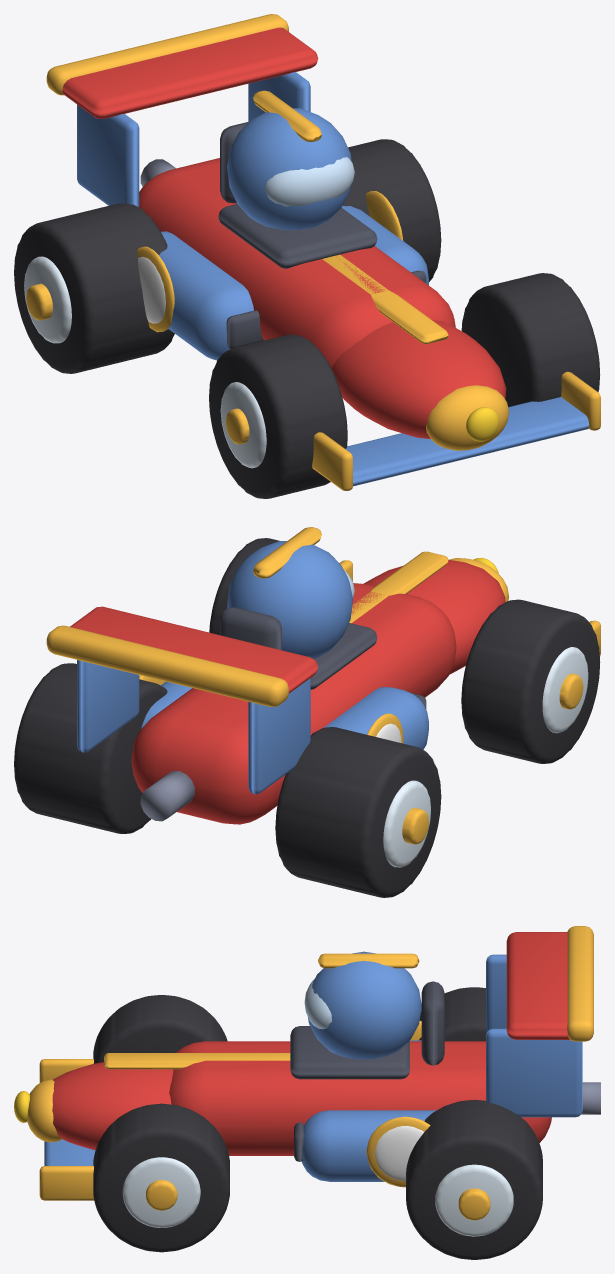
Rendered from toy-hopper.glb.
3 views of the same model, one above another, from view 1: azimuth 30°, elevation 25°; view 2: azimuth 150°, elevation 25°; view 3: azimuth 270°, elevation 25° (orthographic). The views are drawn at different scales.
Parts seen in each view (by area): view 1: body, wheel-back-right, wheel-front-right, wheel-front-left, wheel-back-left; view 2: body, wheel-back-right, wheel-front-right, wheel-back-left, wheel-front-left; view 3: body, wheel-back-left, wheel-front-left, wheel-front-right, wheel-back-right.
Boxes of the visible parts, bbox=[...] form: body: bbox=[46, 14, 600, 490]; wheel-back-right: bbox=[14, 203, 174, 373]; wheel-front-right: bbox=[209, 334, 347, 498]; wheel-front-left: bbox=[461, 273, 600, 406]; wheel-back-left: bbox=[342, 139, 441, 281]; body: bbox=[46, 527, 600, 824]; wheel-back-right: bbox=[275, 727, 441, 897]; wheel-front-right: bbox=[461, 599, 600, 763]; wheel-back-left: bbox=[14, 663, 167, 833]; wheel-front-left: bbox=[209, 538, 334, 634]; body: bbox=[14, 926, 600, 1200]; wheel-back-left: bbox=[406, 1100, 542, 1259]; wheel-front-left: bbox=[93, 1103, 229, 1252]; wheel-front-right: bbox=[93, 995, 227, 1063]; wheel-back-right: bbox=[419, 987, 486, 1041].
Bounding box in the file's own units: 1.72 × 1.11 × 2.55.
1 material, 1 textured.
